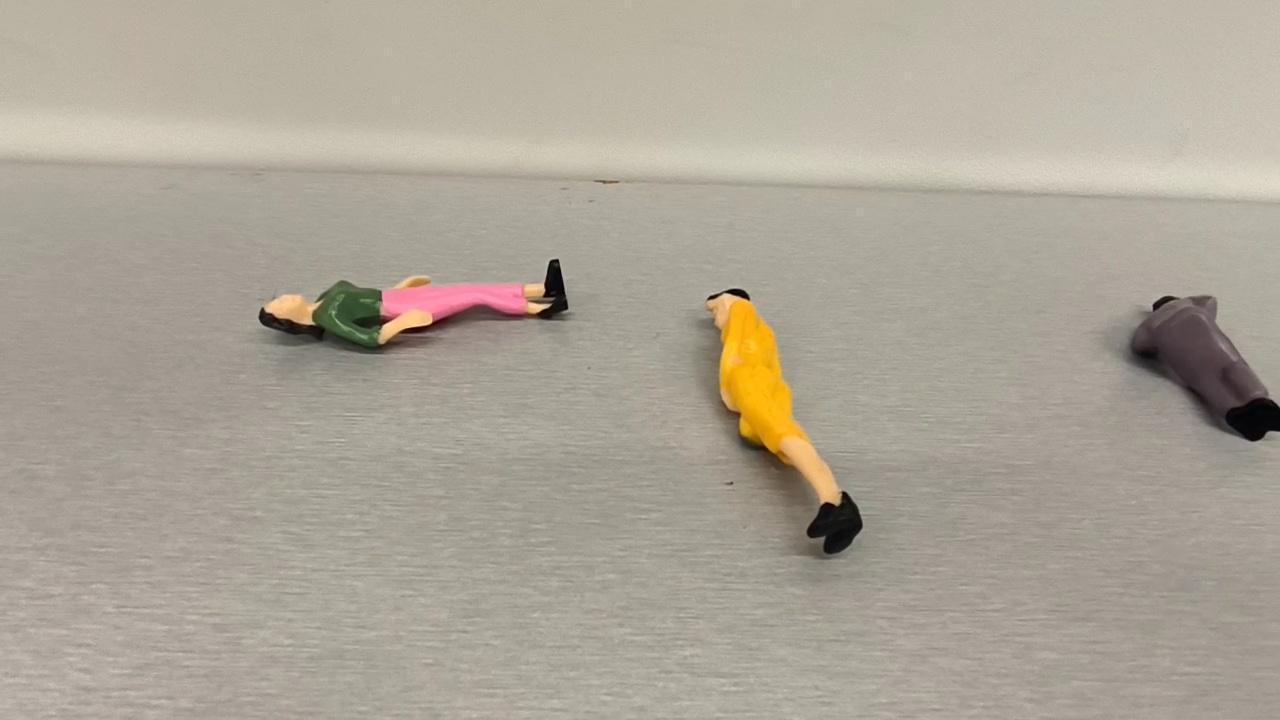human: (703, 282, 863, 556), (261, 256, 575, 352), (1123, 290, 1280, 440)
